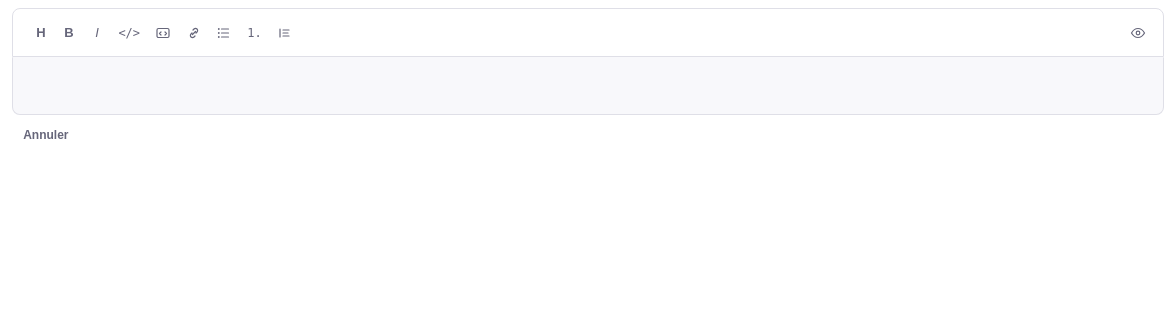
Test: MarkdownEditor — menus déroulants › re-cliquer le bouton du menu le referme
Step 1. Click the button named "Bloc de code" → click(163, 32), box [148,18,178,46]
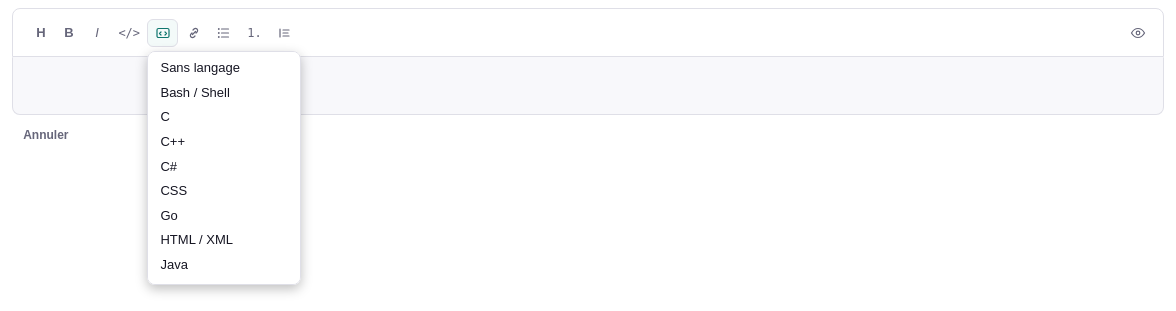
Result: the menu named "Langage du bloc de code" is shown at [148,50,302,284]
Step 2. Click the button named "Bloc de code" → click(163, 32), box [148,18,178,46]
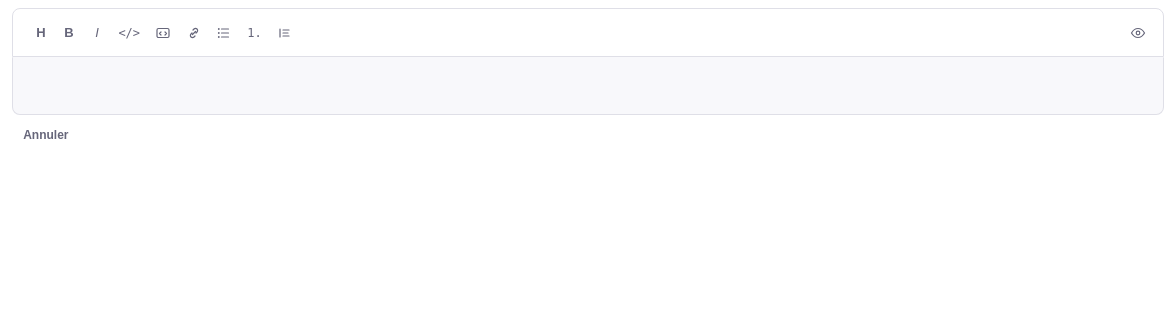
Result: the menu is gone
